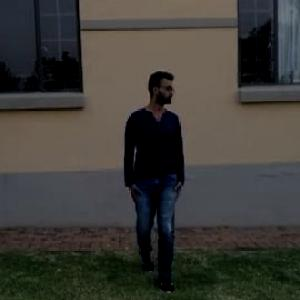follow: (118, 59, 193, 298)
